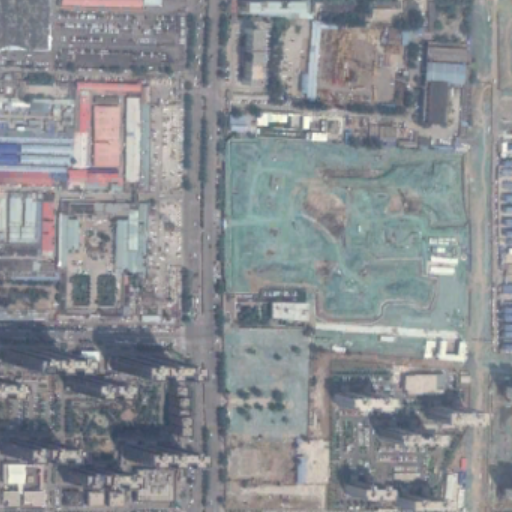cw: (222, 136, 466, 332), (471, 1, 494, 510), (223, 326, 306, 436), (313, 327, 426, 361)
